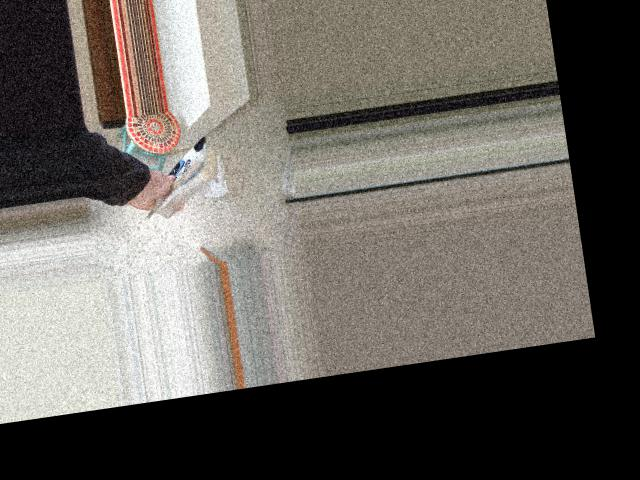cheese: (120, 121, 239, 232)
